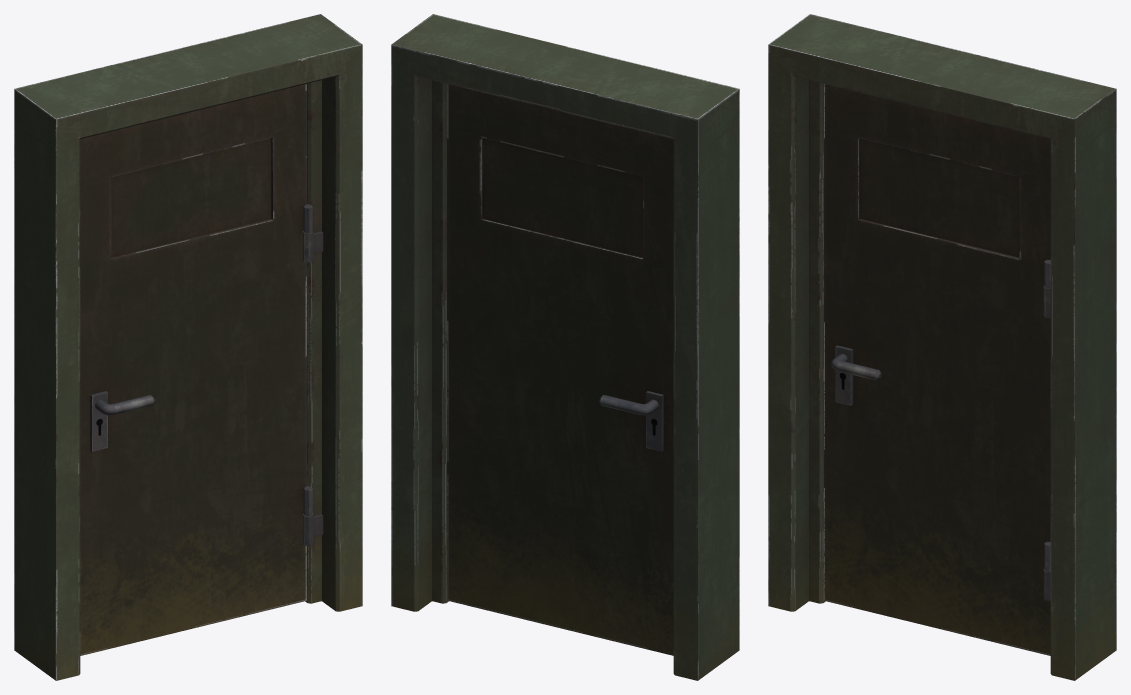
Rendered from Passage_Door.fbx.
3 renders of one model, left to right at view 1: azimuth 30°, elevation 25°; view 2: azimuth 150°, elevation 25°; view 3: azimuth 330°, elevation 25°, orthographic.
Visible parts, largest first — view 1: door, frame, handle; view 2: door, frame, handle; view 3: door, frame, handle.
Boxes of the visible parts, <box> form: door: <box>80,84,312,655</box>; frame: <box>14,14,362,680</box>; handle: <box>95,395,154,415</box>; door: <box>447,84,673,655</box>; frame: <box>391,14,739,680</box>; handle: <box>599,395,658,415</box>; door: <box>824,84,1050,655</box>; frame: <box>768,14,1116,680</box>; handle: <box>831,354,881,380</box>.
Size of the model in its own units: 128 by 225 by 30.37.
1 material, 1 textured.
